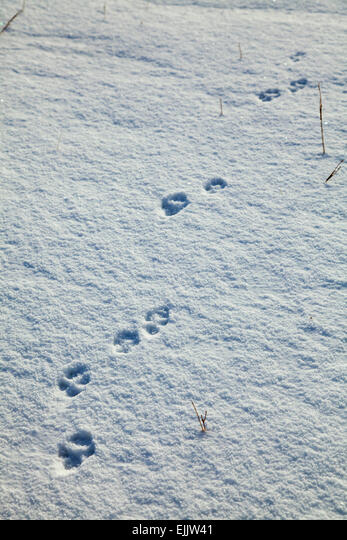fox: (57, 430, 105, 465), (58, 361, 94, 401), (144, 305, 175, 335), (112, 328, 143, 355)
